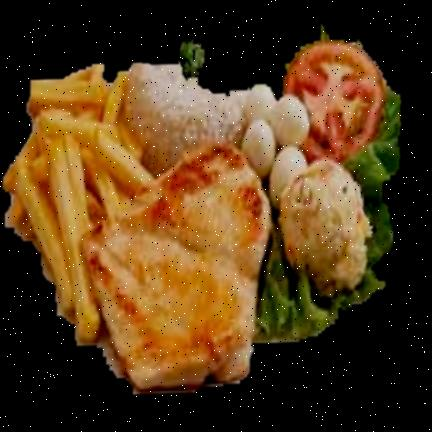chicken: (82, 144, 272, 391), (84, 143, 270, 390)
egg: (241, 84, 309, 210)
potato: (2, 65, 157, 349), (4, 65, 141, 341)
rice: (124, 64, 246, 175), (127, 63, 247, 175)
salad: (251, 31, 397, 339), (256, 86, 401, 343)
tomato: (284, 41, 385, 162)
